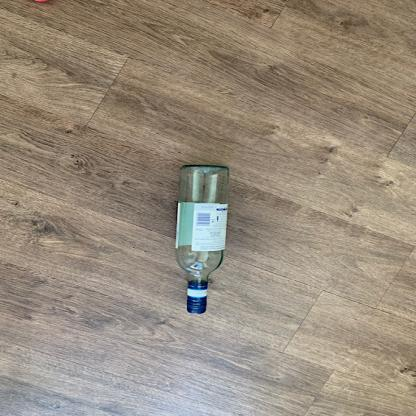trash: (170, 163, 232, 322)
